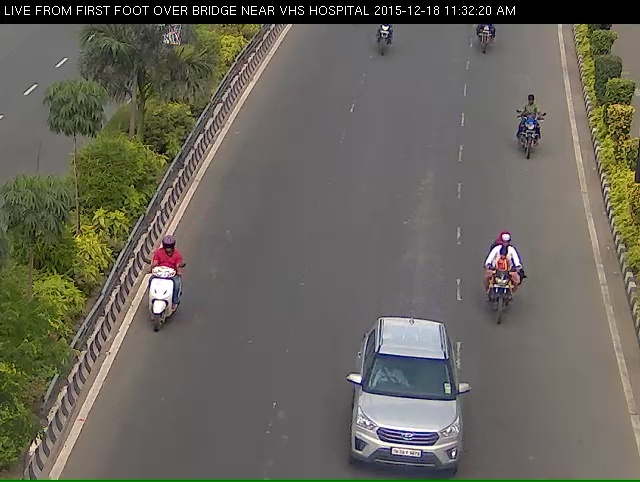Car: (341, 351, 479, 482)
Person: (477, 258, 540, 356), (125, 266, 176, 371), (512, 96, 550, 172), (368, 21, 397, 72), (473, 24, 503, 69)
